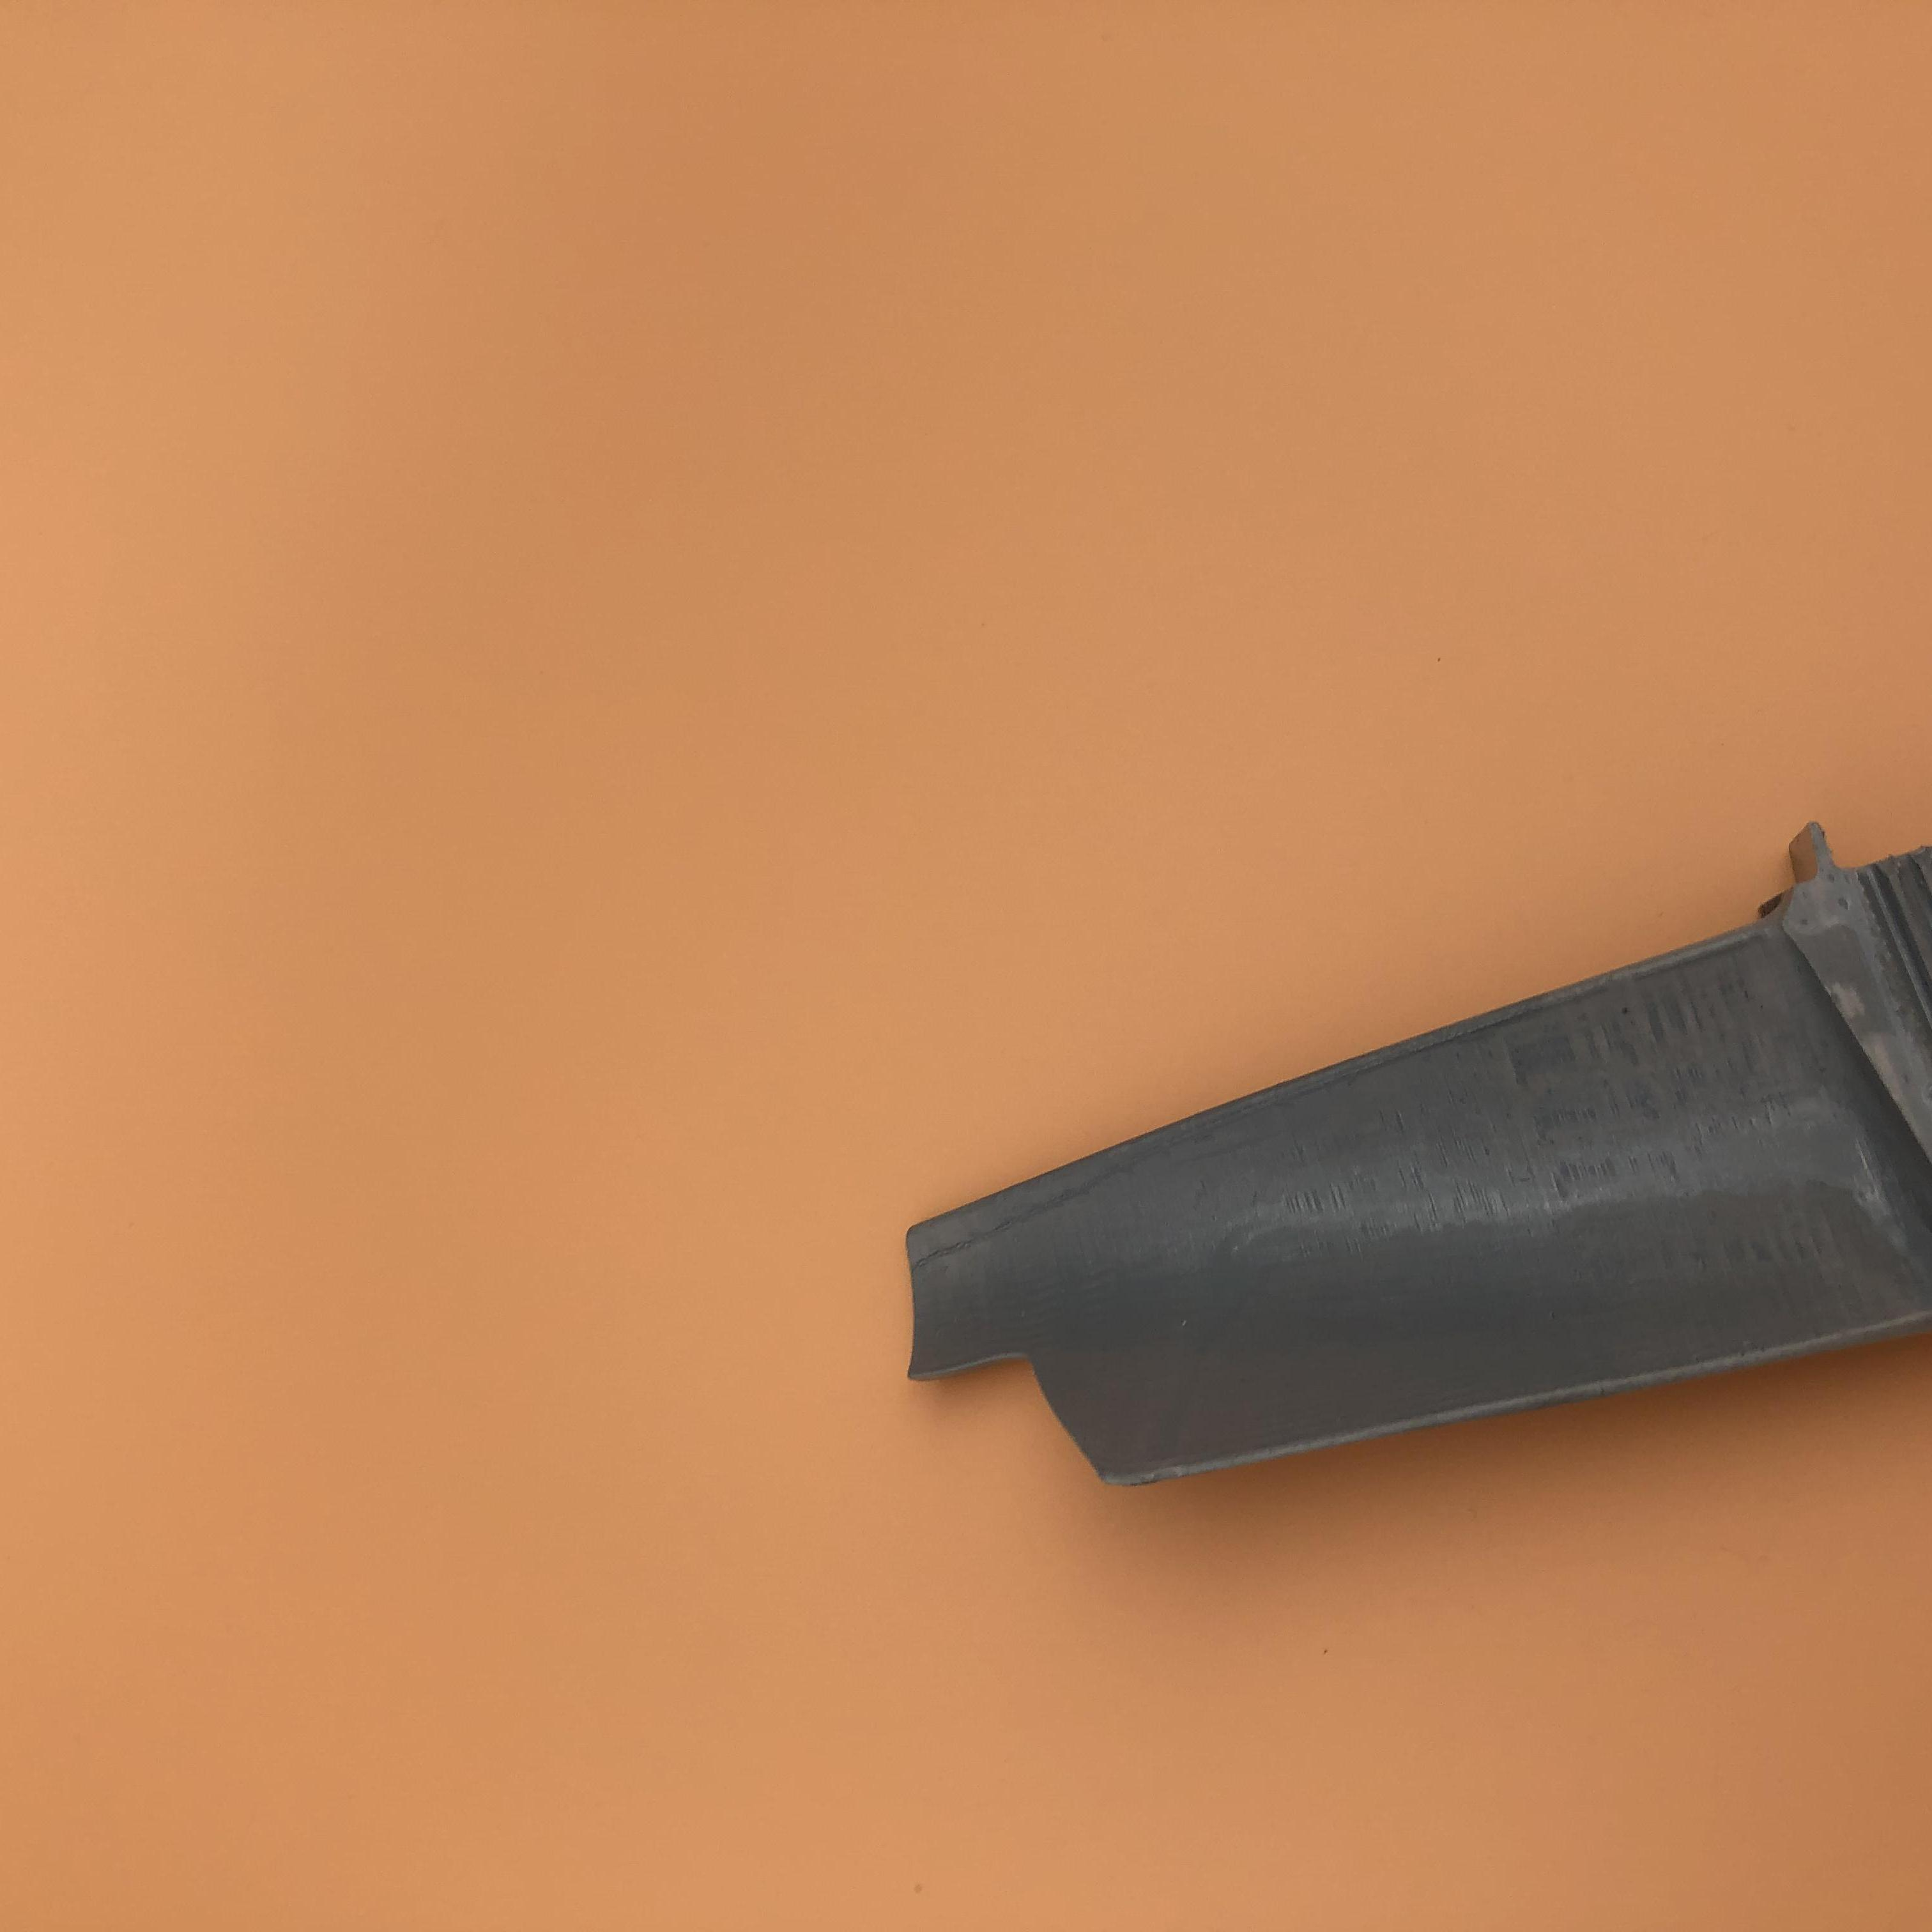fracture: (911, 1329, 1118, 1472)
